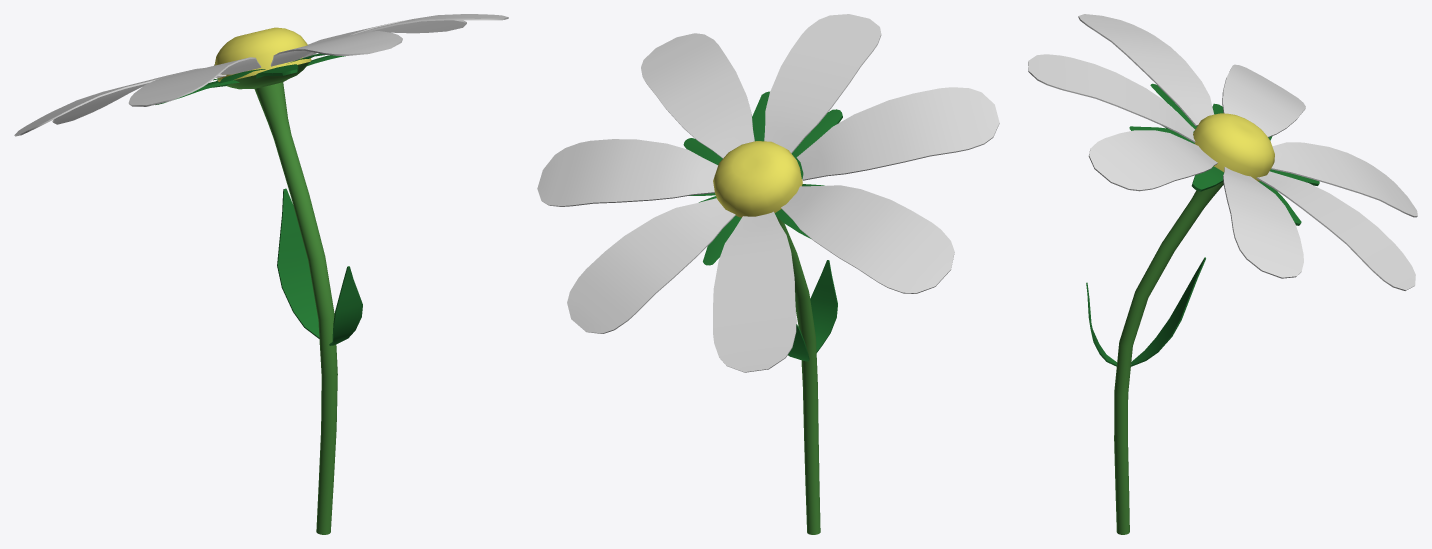
File: Margarita.fbx
3 views of the same model, side by side, from view 1: azimuth 30°, elevation 25°; view 2: azimuth 150°, elevation 25°; view 3: azimuth 270°, elevation 25° (orthographic). The views are drawn at different scales.
Visible parts, largest first — view 1: Margarita; view 2: Margarita; view 3: Margarita.
Boxes of the visible parts, bbox=[...] form: Margarita: bbox=[14, 14, 508, 534]; Margarita: bbox=[537, 14, 999, 534]; Margarita: bbox=[1028, 14, 1417, 534].
Size of the model in its own units: 323 by 363 by 274.
